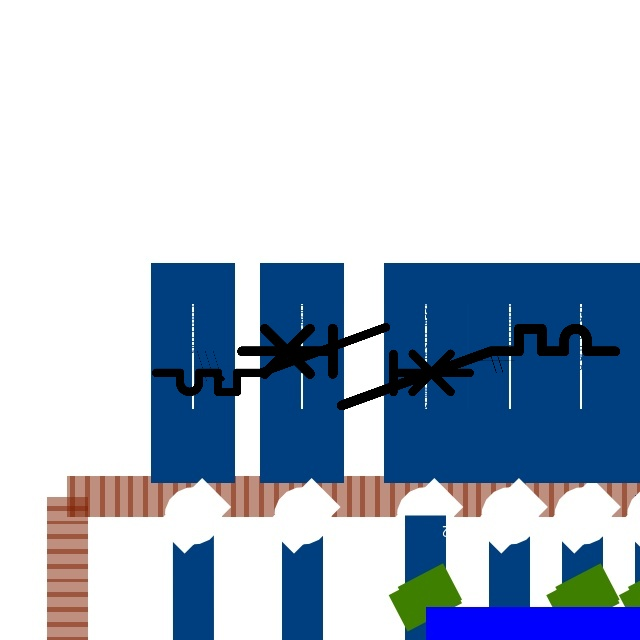interruptor_termomagnetico: (232, 319, 625, 415), (148, 319, 478, 400)
